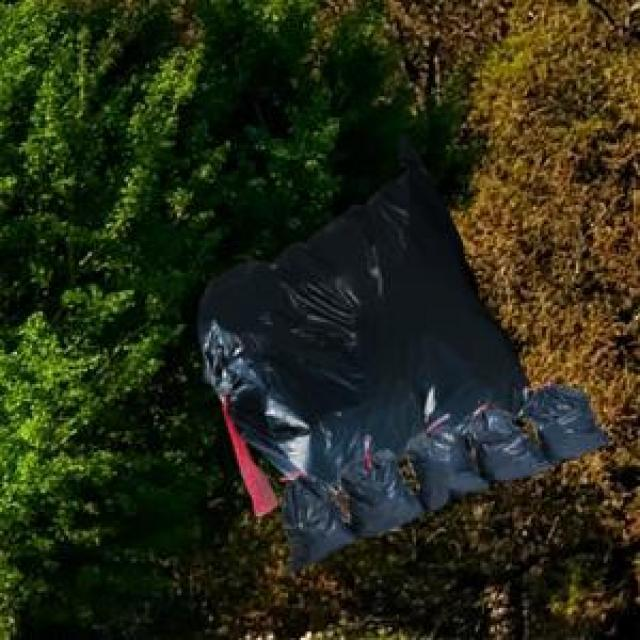waste: (201, 163, 527, 409), (338, 449, 424, 532), (408, 422, 491, 508), (464, 412, 550, 486), (278, 480, 350, 561)
